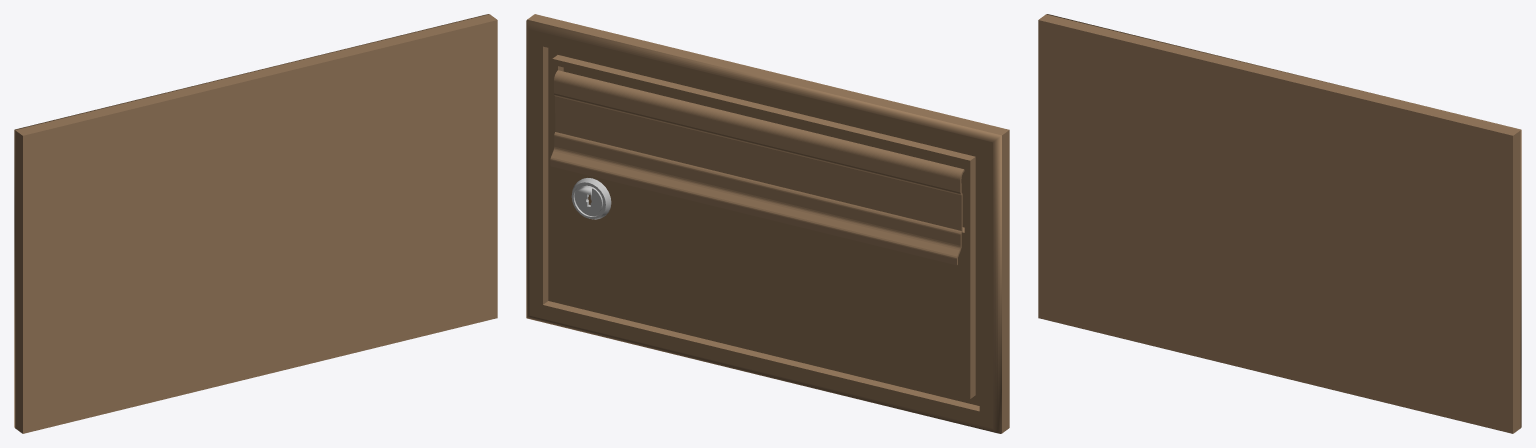
Rendered from postbox_door.fbx.
The picture shows the model from 3 angles, left to right: view 1: azimuth 30°, elevation 25°; view 2: azimuth 150°, elevation 25°; view 3: azimuth 330°, elevation 25°; orthographic projection.
Visible parts, largest first — view 1: door; view 2: door; view 3: door.
Boxes of the visible parts, x1,y1,x2,y2 form: door: (14, 14, 497, 433); door: (526, 14, 1009, 433); door: (1038, 14, 1521, 433).
Size of the model in its own units: 10.6 by 6.36 by 0.7207.
